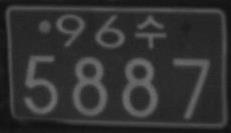5: (22, 55, 59, 116)
6: (94, 14, 125, 50)
7: (173, 57, 210, 121)
8: (70, 55, 109, 118), (121, 56, 159, 119)
9: (55, 12, 86, 47)
수: (134, 15, 166, 49)
